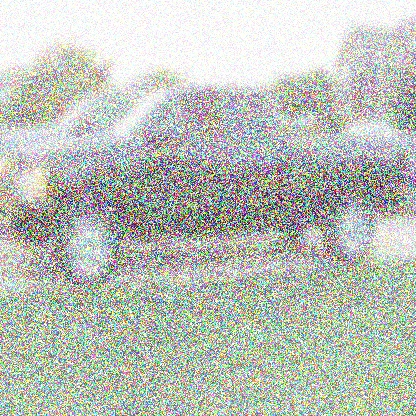Vehicle: (3, 84, 411, 290)
